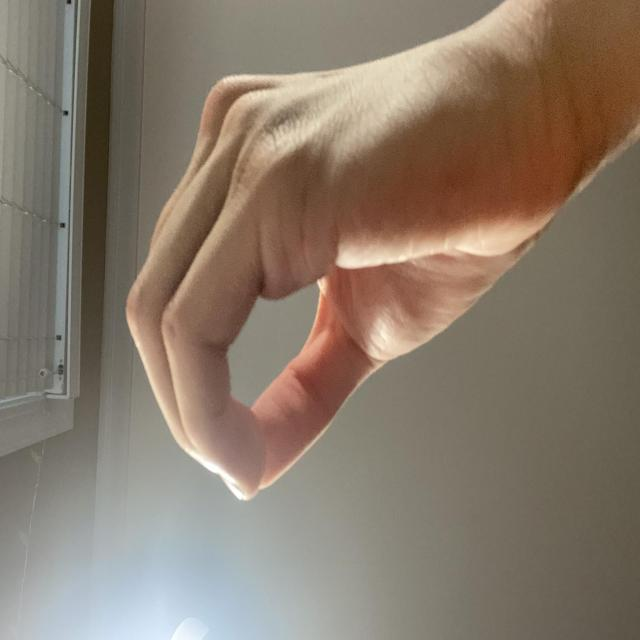O: (98, 158, 476, 640)
